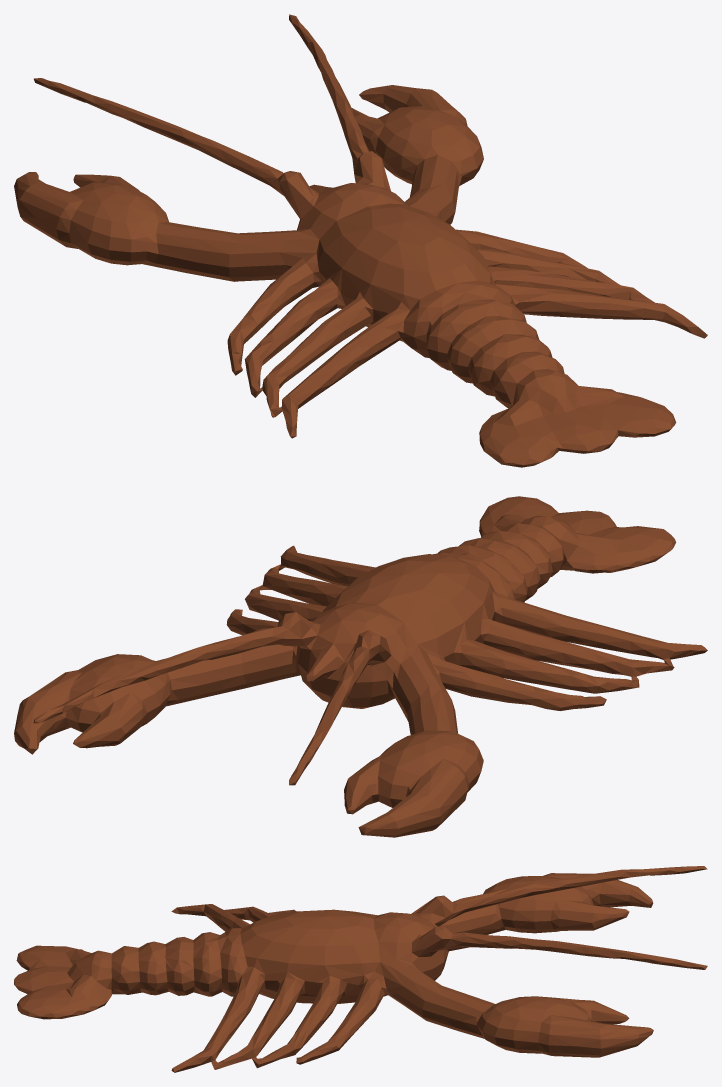
The model's file is NEW_RECOVERY_028_LOD2.glb.
3 renders of one model, top to bottom at view 1: azimuth 30°, elevation 25°; view 2: azimuth 150°, elevation 25°; view 3: azimuth 270°, elevation 25°, orthographic. The views are drawn at different scales.
Visible parts, largest first — view 1: Lobster_whole_LOD2; view 2: Lobster_whole_LOD2; view 3: Lobster_whole_LOD2.
Boxes of the visible parts, x1,y1,x2,y2 form: Lobster_whole_LOD2: [14, 14, 707, 467]; Lobster_whole_LOD2: [14, 496, 707, 837]; Lobster_whole_LOD2: [14, 866, 707, 1072].
Size of the model in its own units: 4.57 by 1.13 by 8.18.
